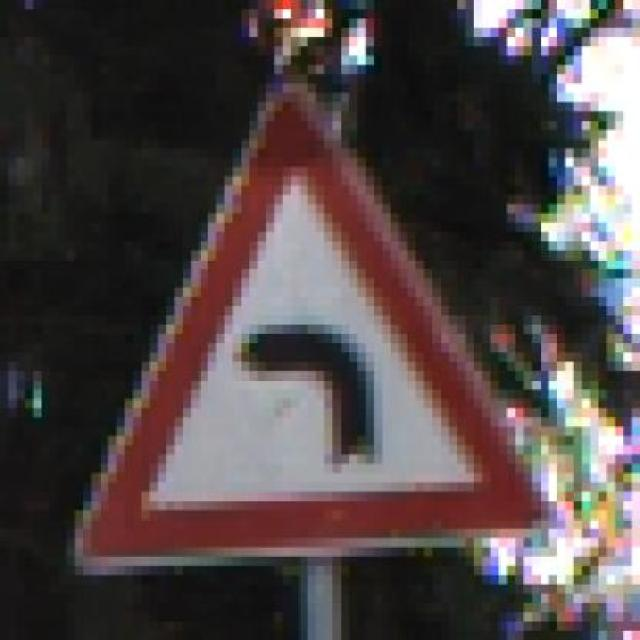Dangerous Left Curve Ahead: (66, 83, 574, 566)
